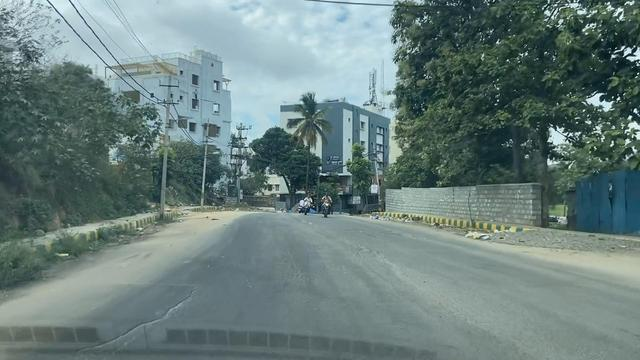RoadDamages: (70, 280, 229, 359), (342, 224, 415, 251)
